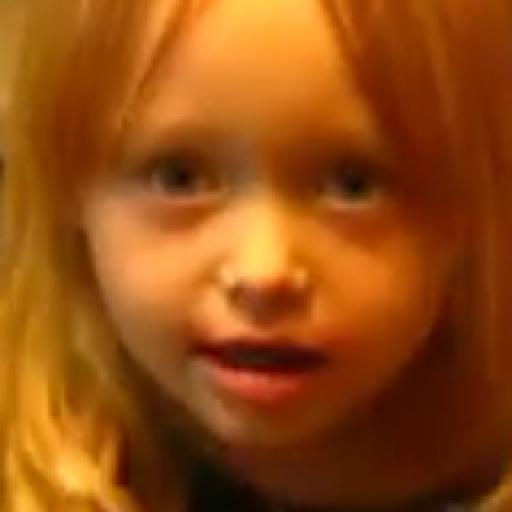Autism: (110, 12, 459, 478)
